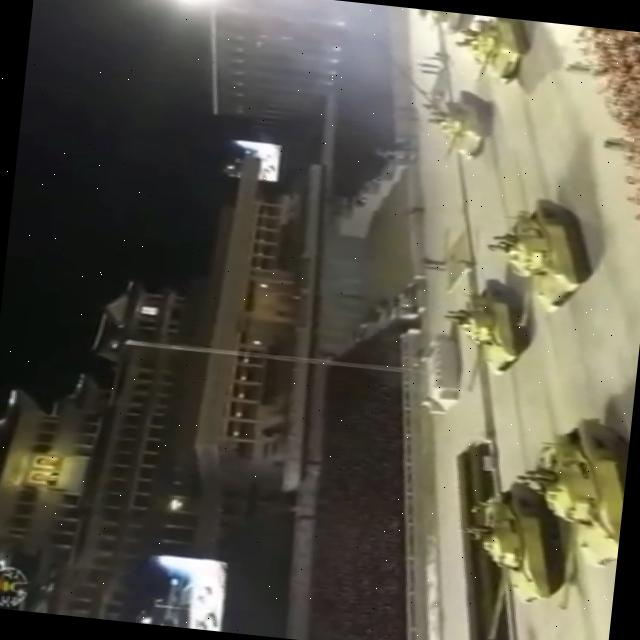north tank: (518, 380, 634, 583), (454, 478, 578, 632), (468, 186, 598, 324), (428, 270, 553, 389), (417, 74, 511, 178), (442, 12, 538, 97)
